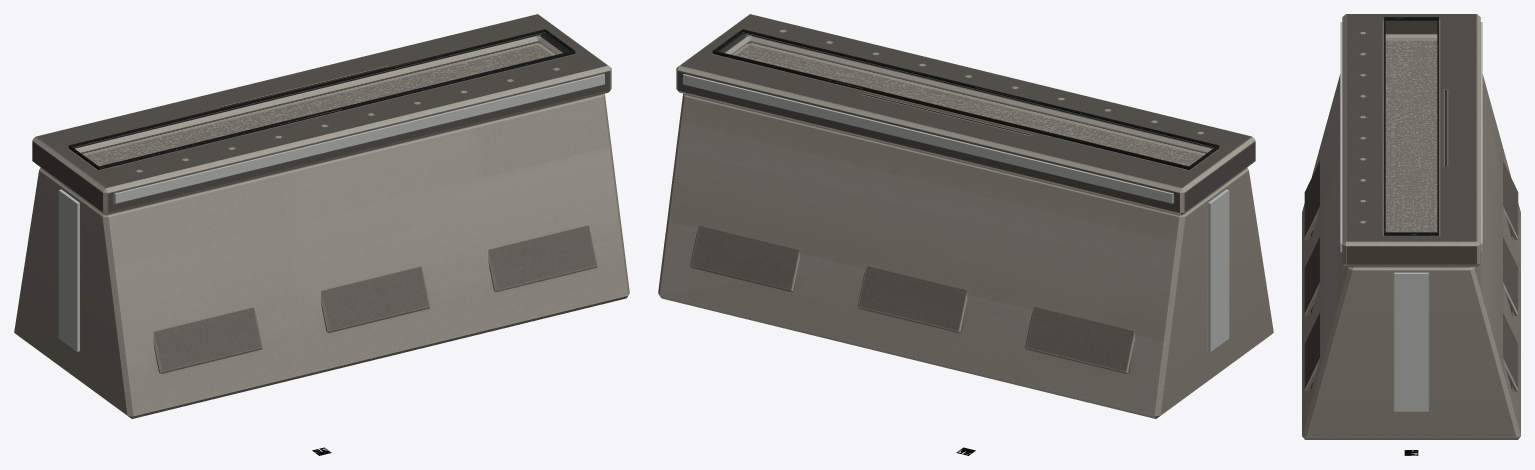
File: ord_barrier.fbx
3 renders of one model, left to right at view 1: azimuth 30°, elevation 25°; view 2: azimuth 150°, elevation 25°; view 3: azimuth 270°, elevation 25°, orthographic. The views are drawn at different scales.
Visible parts, largest first — view 1: base_bar, base_glow_running_bar; view 2: base_bar, base_glow_running_bar; view 3: base_bar, base_glow_running_bar.
Part boxes in pixels (x1,y1,x2,y2): base_bar: (14, 14, 629, 418); base_glow_running_bar: (58, 74, 604, 351); base_bar: (658, 14, 1273, 418); base_glow_running_bar: (683, 74, 1229, 351); base_bar: (1302, 14, 1520, 439); base_glow_running_bar: (1340, 22, 1482, 411).
Size of the model in its own units: 790 by 524 by 317.
Materials: 2 (2 with a texture image).
